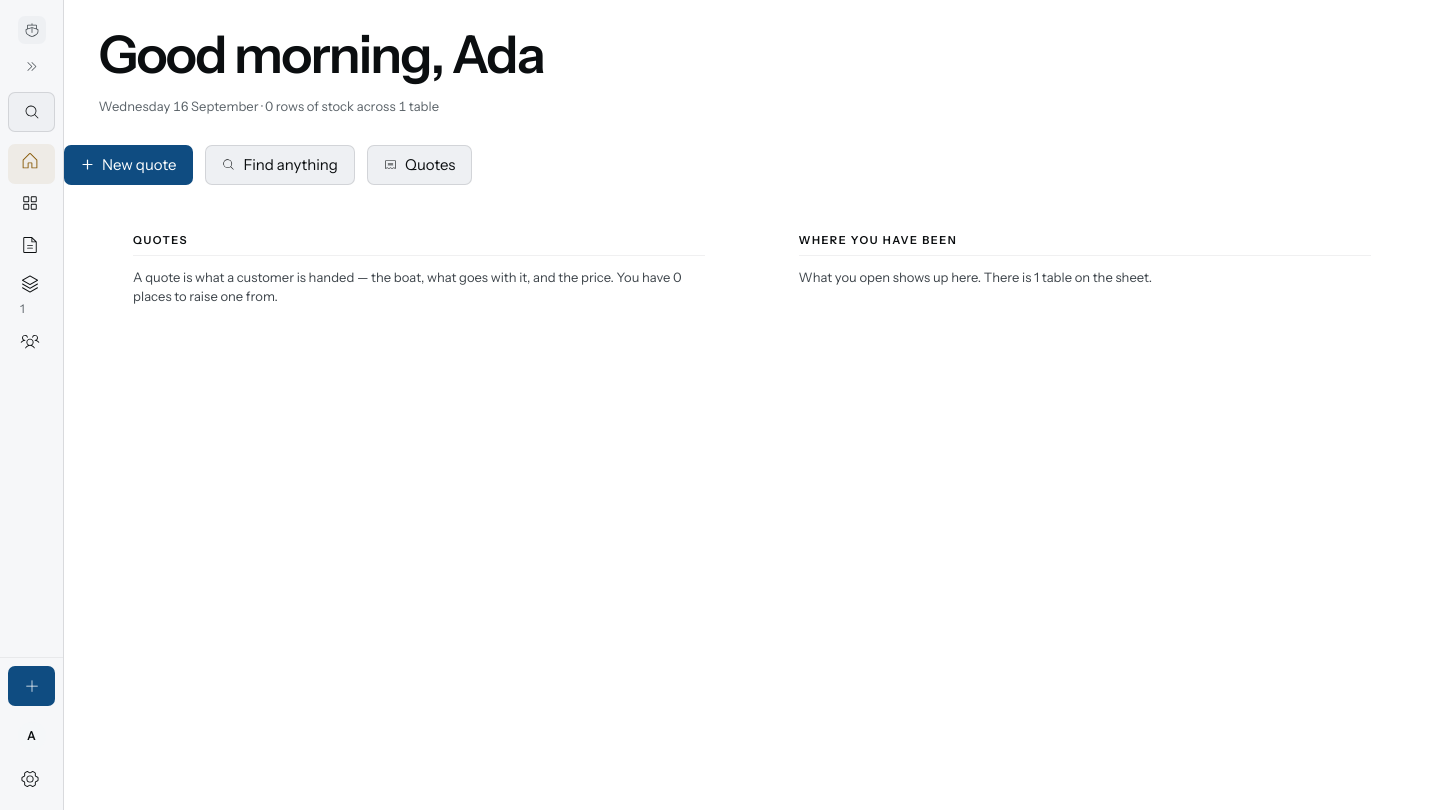
Test: getting to the reviewer › IS A PRESS FROM DATA, which is the screen about the shape it reviews
This screenshot has width=1440, height=810.
Click the button named "Data" at (32, 296), box 8,270 -> 55,322
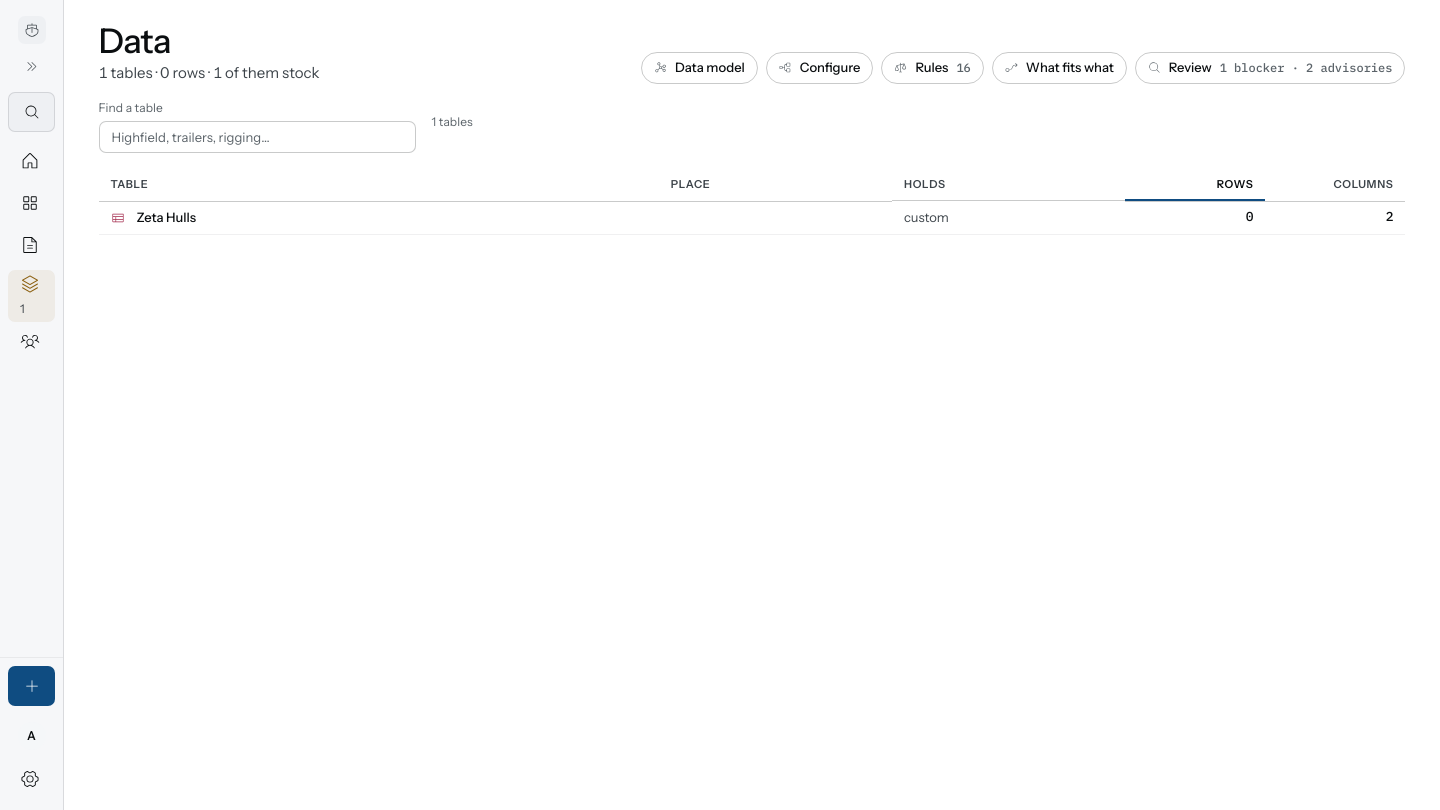
Click the button "Review 1 blocker · 2 advisories" at (1270, 68), box 1135,52 -> 1405,84
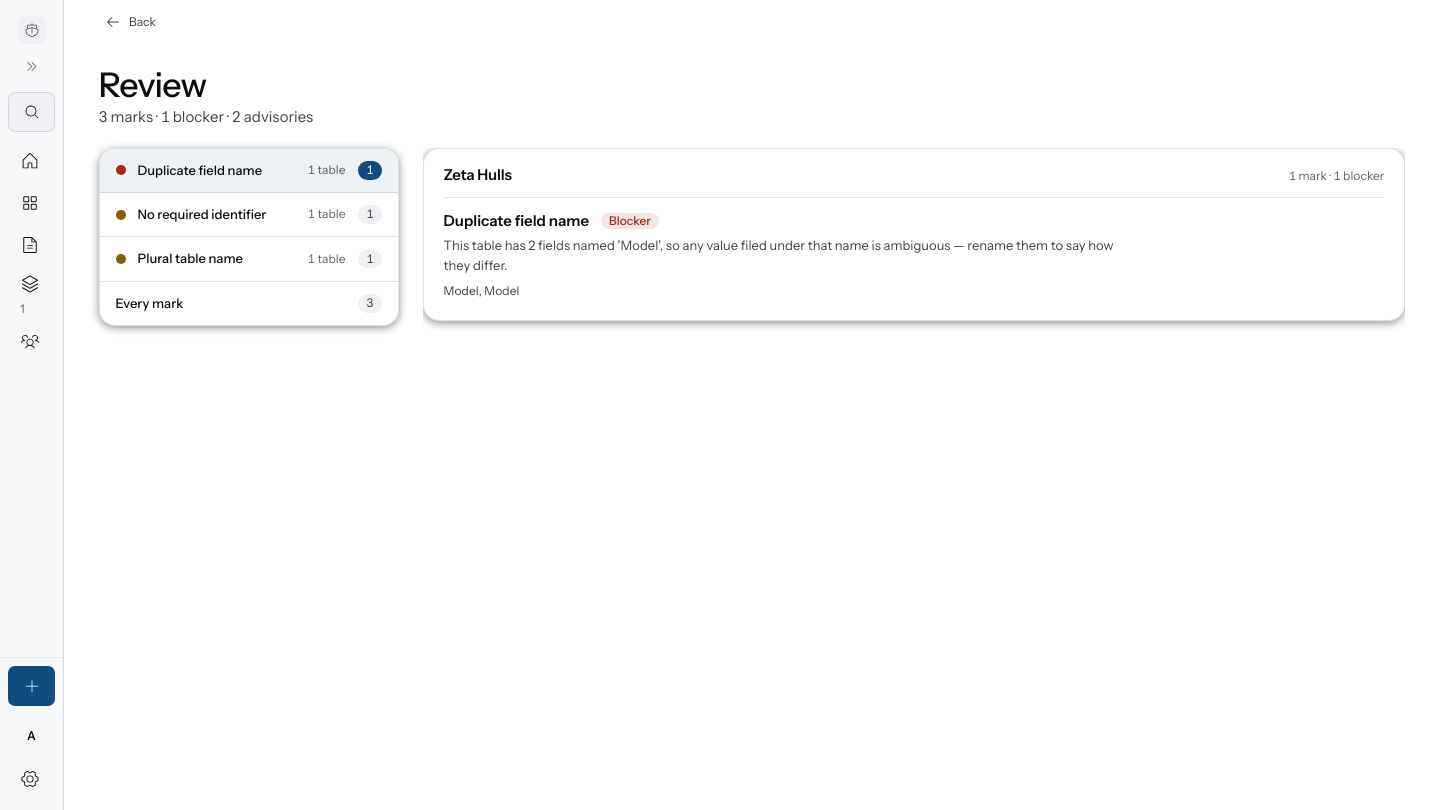
Expected: the element "Review" is shown
